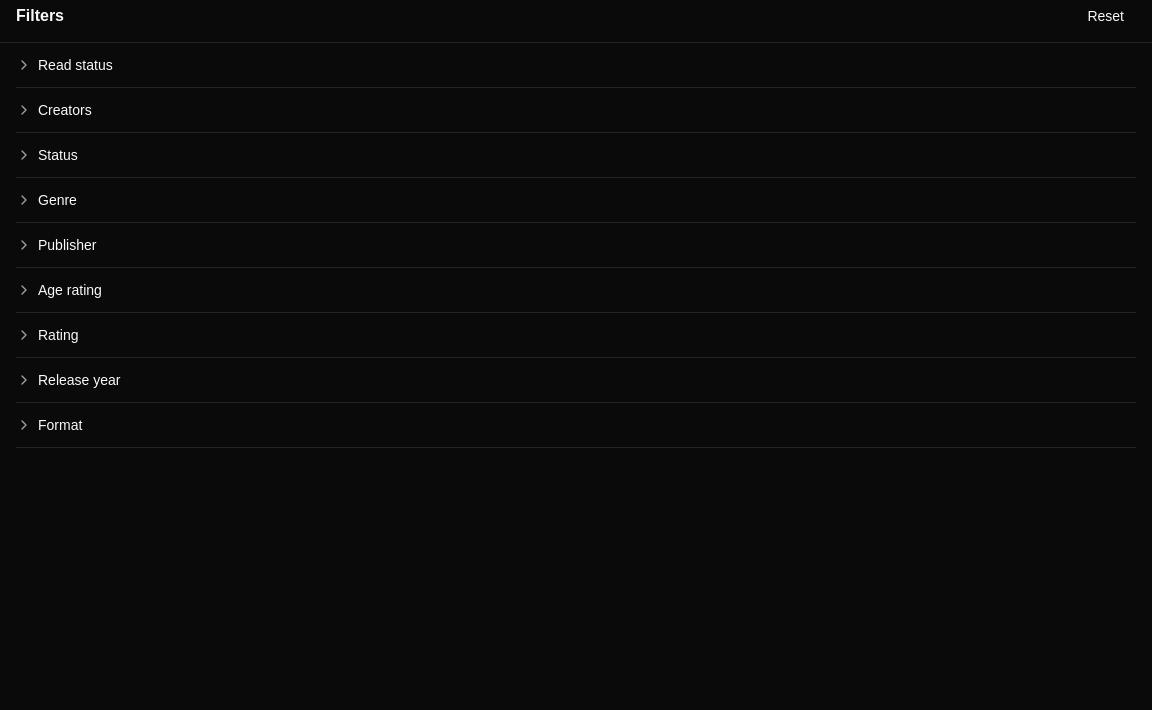
Test: FilterPanelInner › renders every publisher, not just the first hundred
Click the button "Publisher".
click(67, 245)  # box [16, 223, 1136, 267]
(page scrolled)
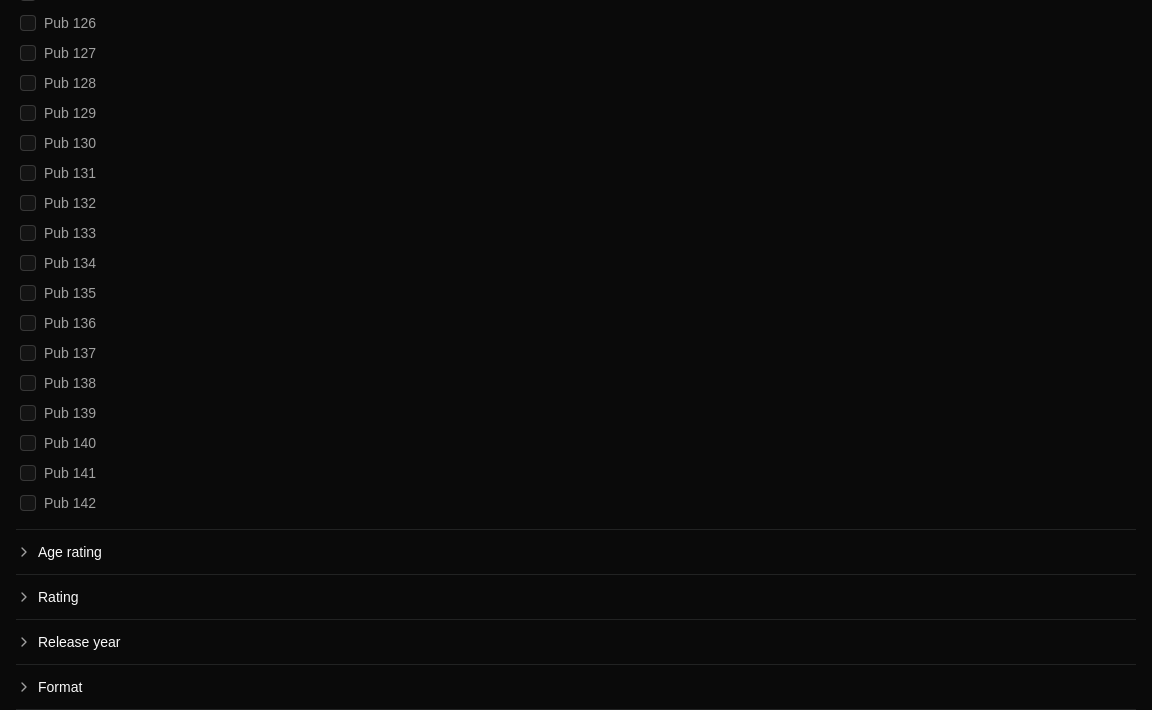
Expected: the checkbox named "Pub 142" is shown, [20, 495, 36, 511]
